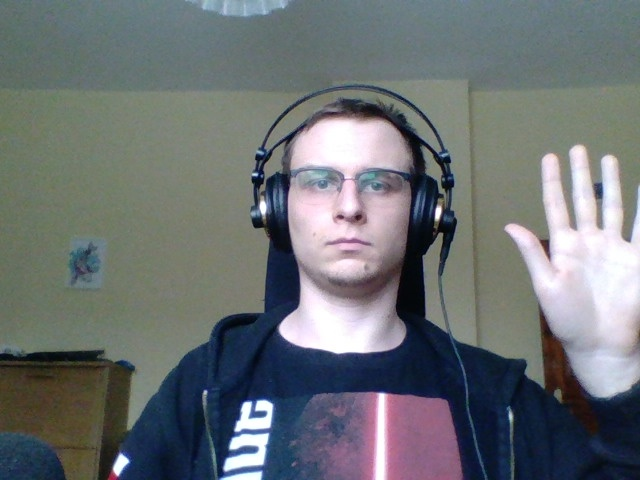hello: (499, 138, 638, 393)
